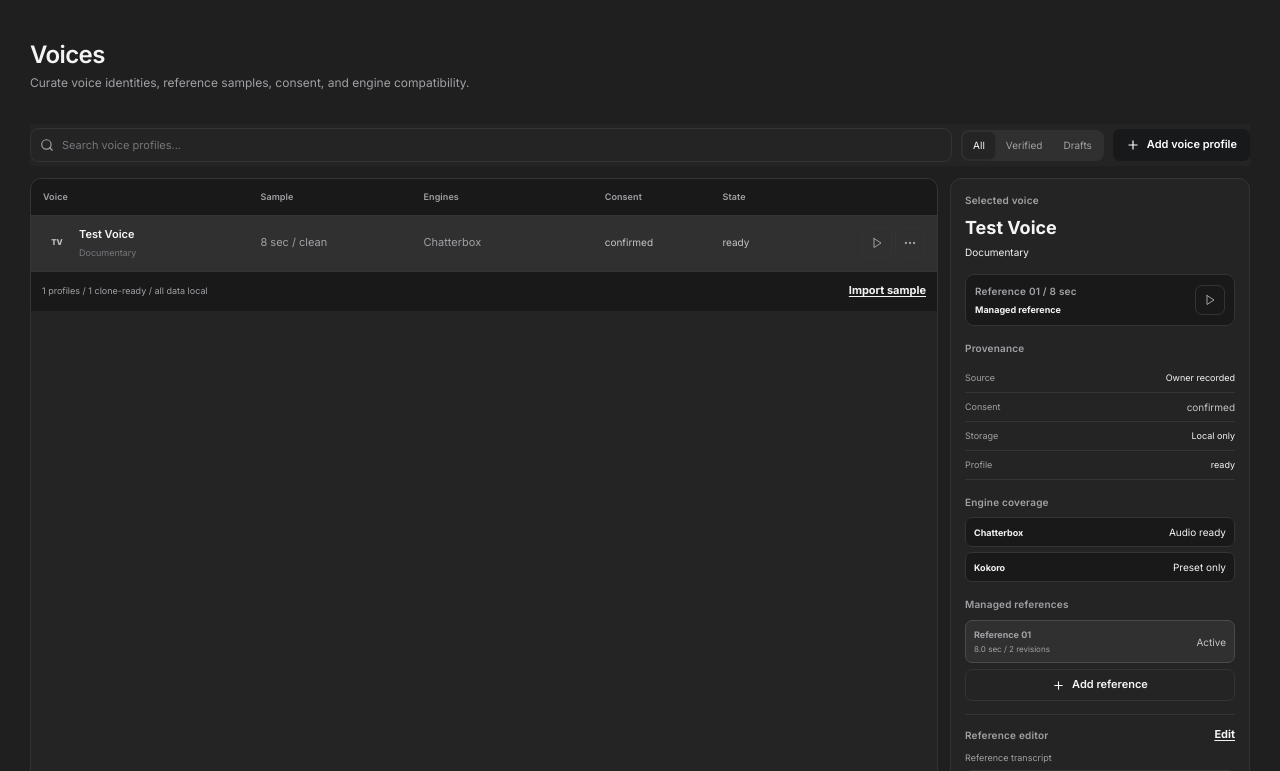
Voice Lab › offers recording and upload sources with consent selected by default
Step 1. Click the button "Add voice profile" → (1181,145), box [1113,129,1250,161]
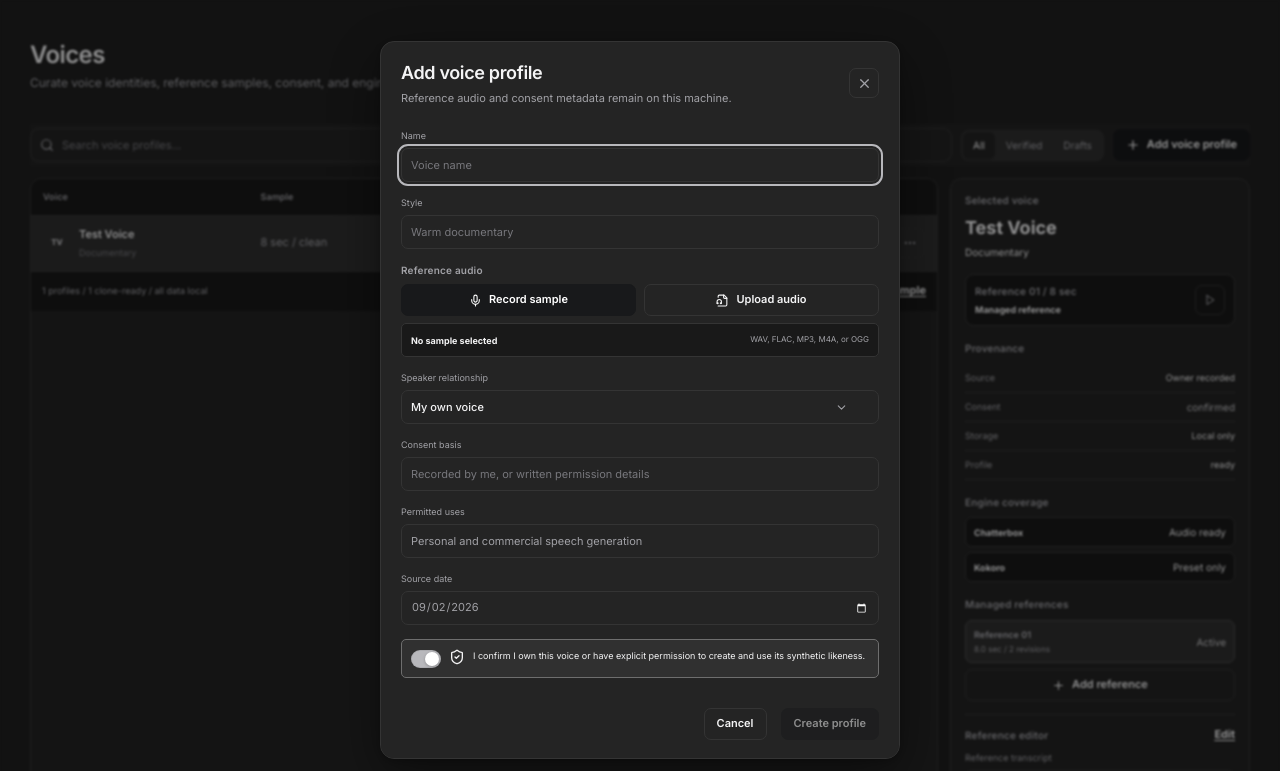
Check: the checkbox labelled "I confirm I own this voice" is checked, box [411,650,441,668]
Step 2. Click the button "Record sample" → (518,300), box [401,284,636,316]
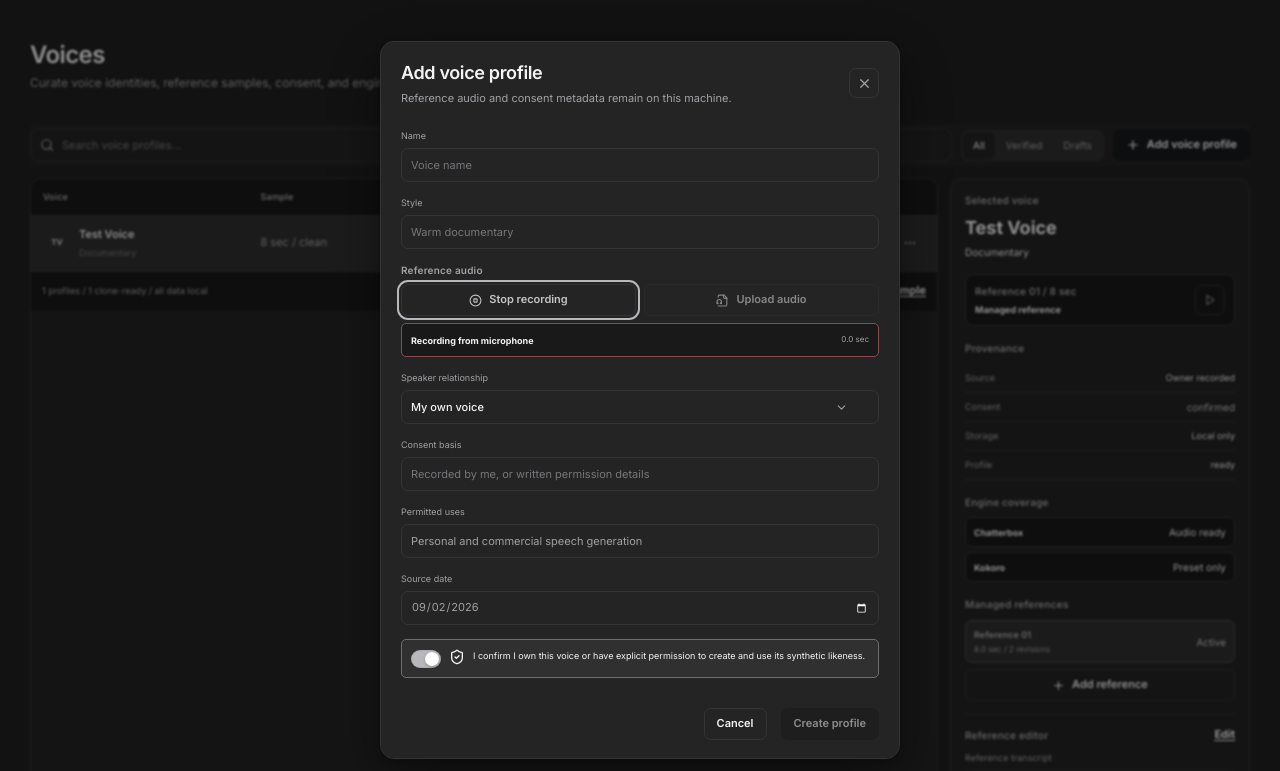
Step 3. Click the button "Stop recording" → (518,300), box [401,284,636,316]
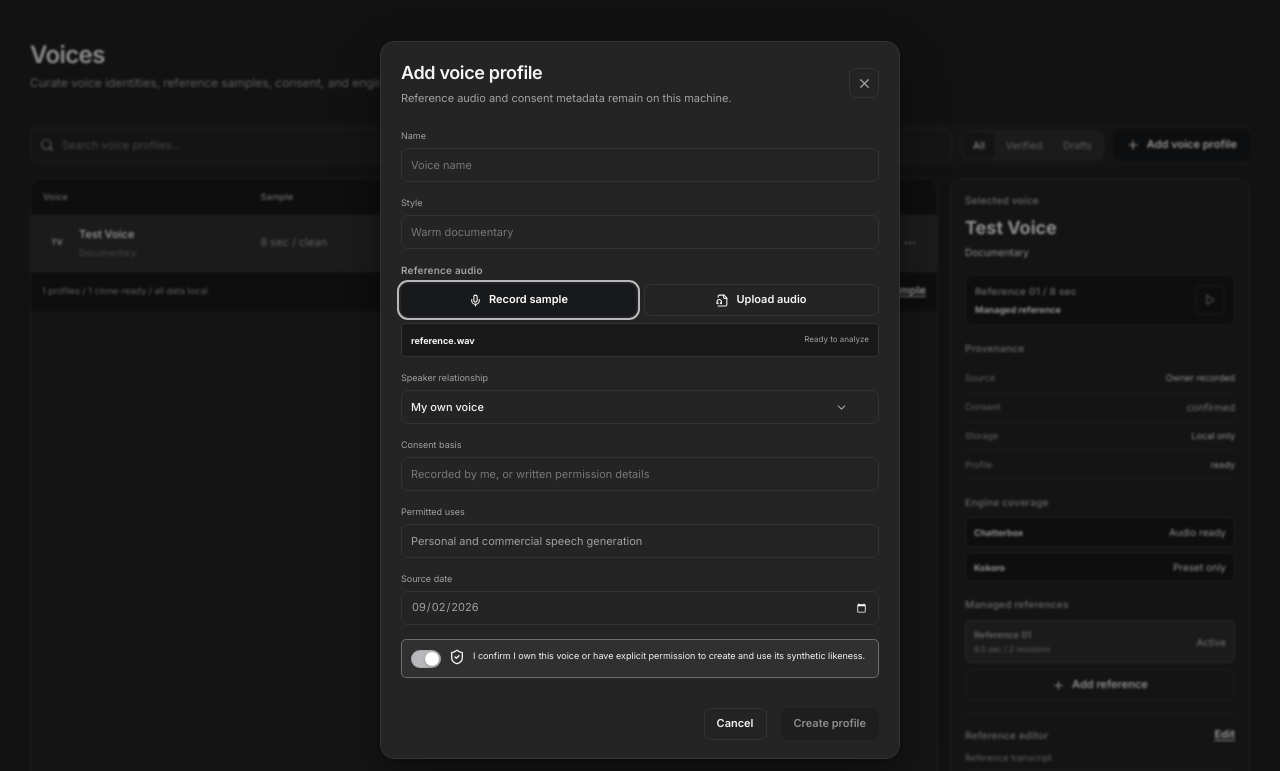
Check: the text "reference.wav" is shown, box [411,334,475,347]
Step 4. Click the button "Upload audio" → (762,300), box [644,284,879,316]
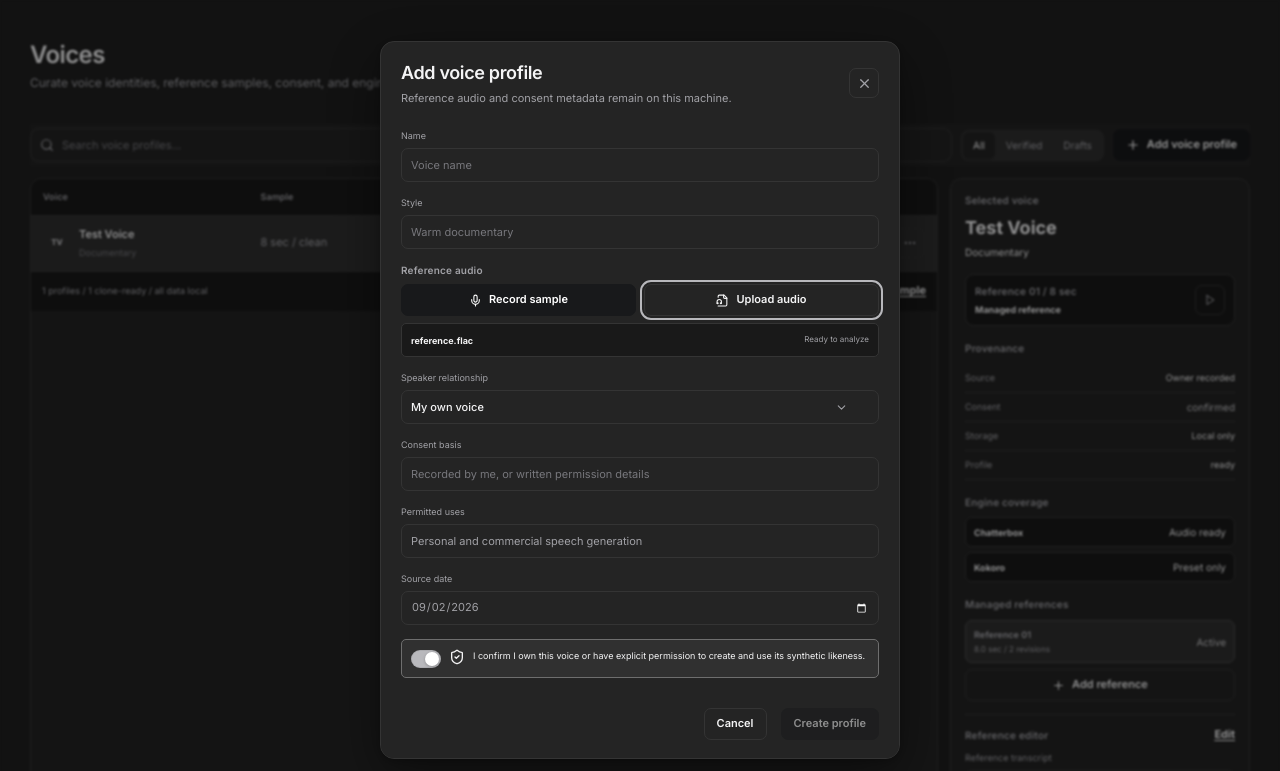
Check: the text "reference.flac" is shown, box [411,334,473,347]
